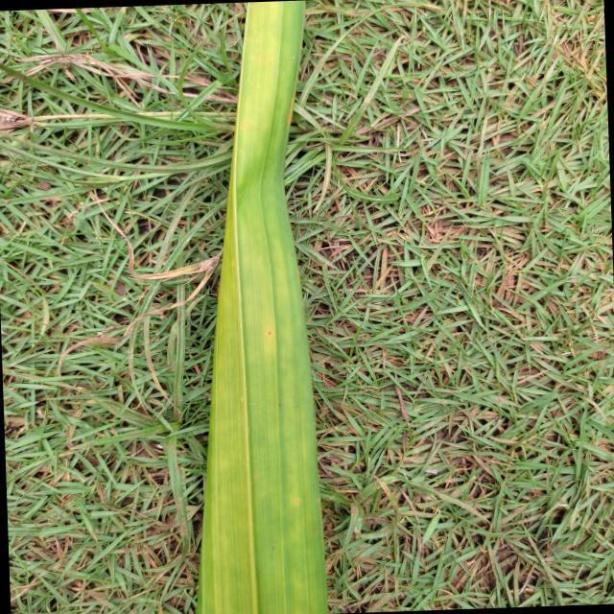nitrogen: (198, 0, 325, 614)
